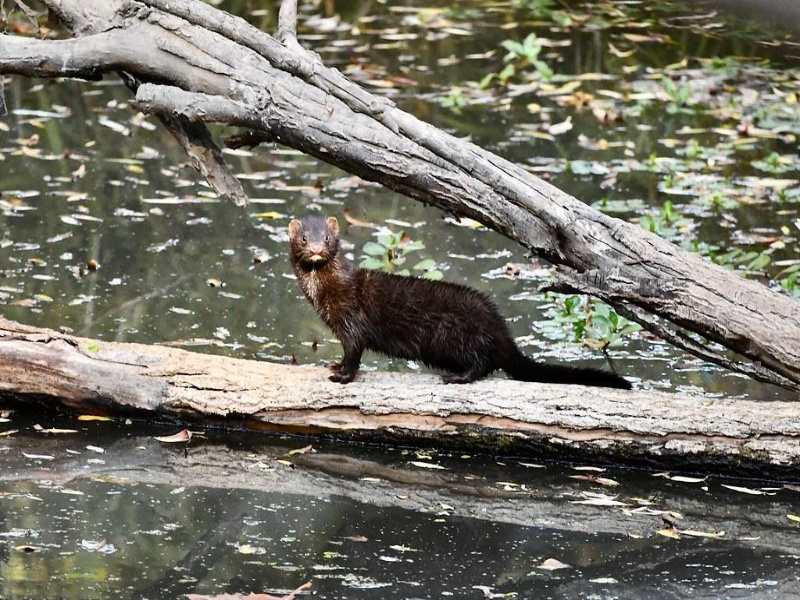minkish: (286, 215, 636, 396)
